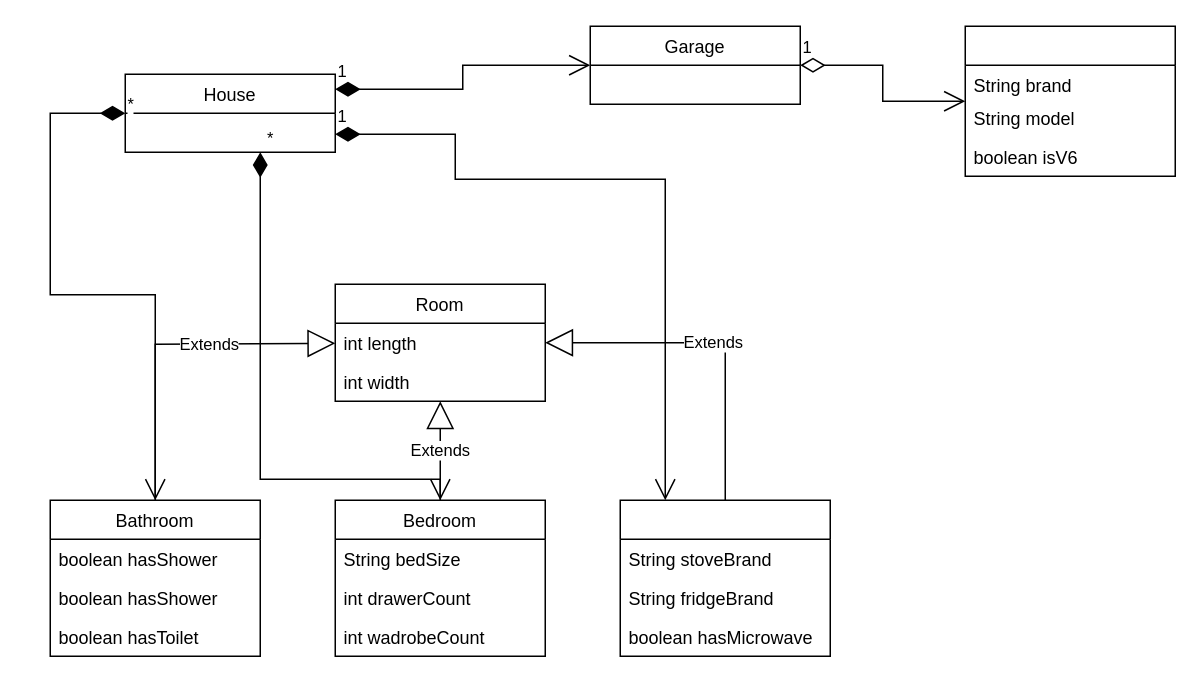
The diagram is 1202 pixels wide and 687 high, and some of its shapes have lost their labels. The shapes that lost their labels are listed below. From the top down, each one's box as (x1, y1, x2, y2) in pixels, then its label:
(964, 25, 1175, 176): Car
(619, 499, 830, 656): Kitchen
